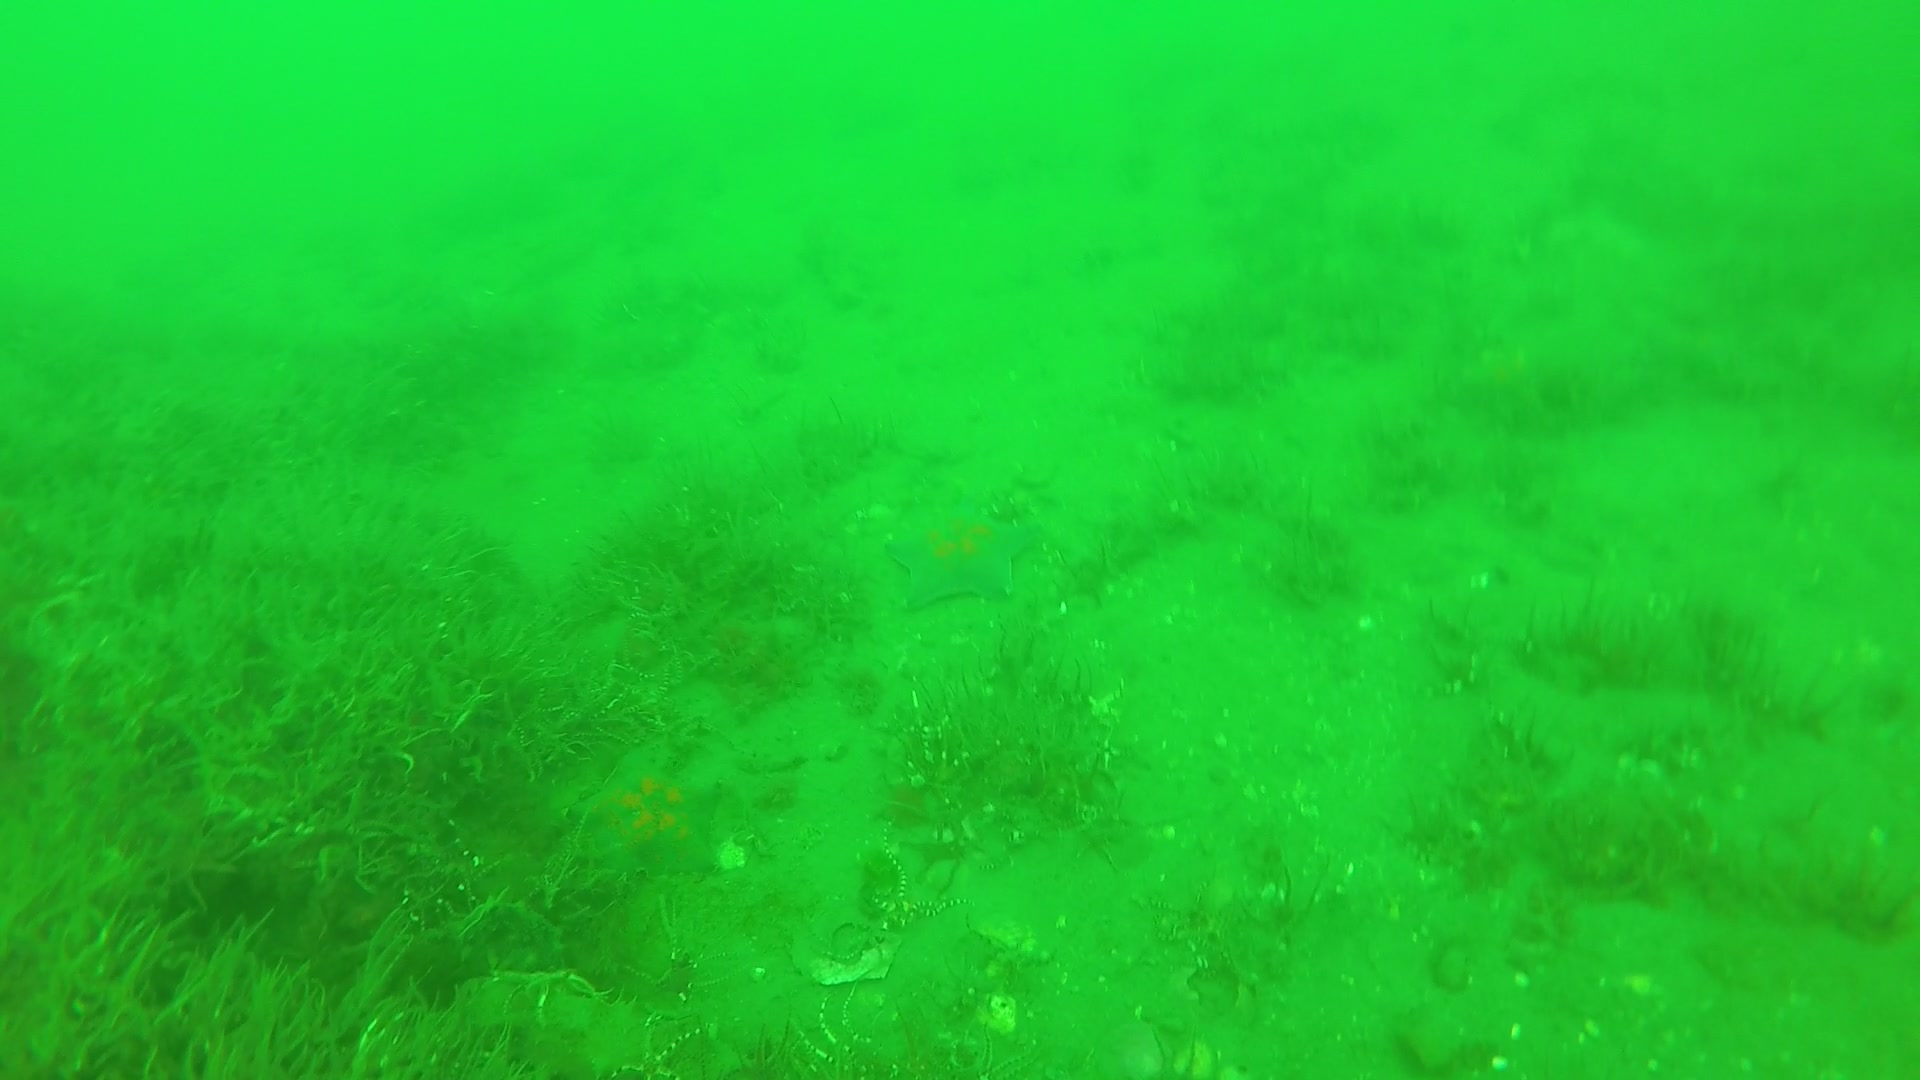starfish: (568, 767, 723, 889), (884, 492, 1046, 607)
